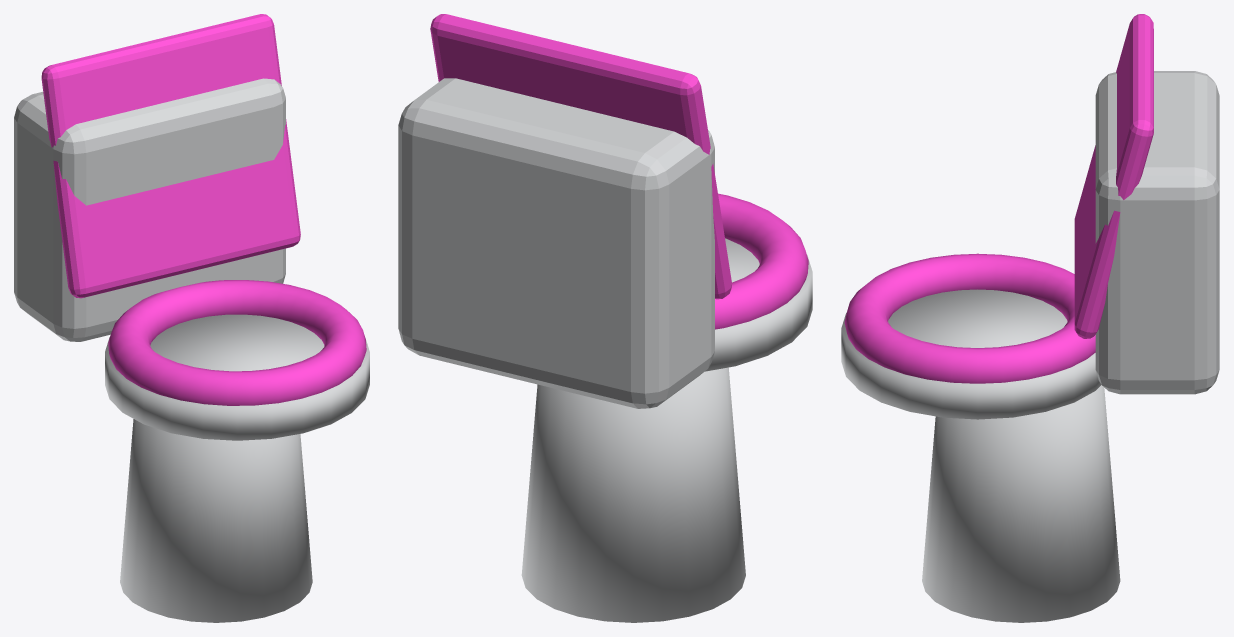
The model's file is Furn_Toilet.fbx.
3 renders of one model, left to right at view 1: azimuth 30°, elevation 25°; view 2: azimuth 150°, elevation 25°; view 3: azimuth 270°, elevation 25°, orthographic. The views are drawn at different scales.
Parts seen in each view (by area): view 1: Furn_Toilet; view 2: Furn_Toilet; view 3: Furn_Toilet.
Boxes of the visible parts, box(x1,y1,x2,y2) form: Furn_Toilet: box(14, 14, 369, 622); Furn_Toilet: box(398, 14, 812, 622); Furn_Toilet: box(841, 14, 1219, 622).
Size of the model in its own units: 0.44 by 0.9138 by 0.61.
